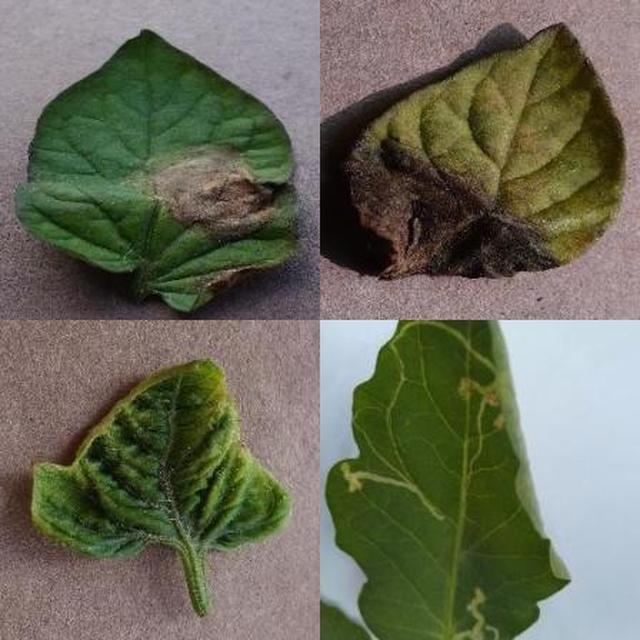Late Blight Leaf: (227, 216, 640, 640)
